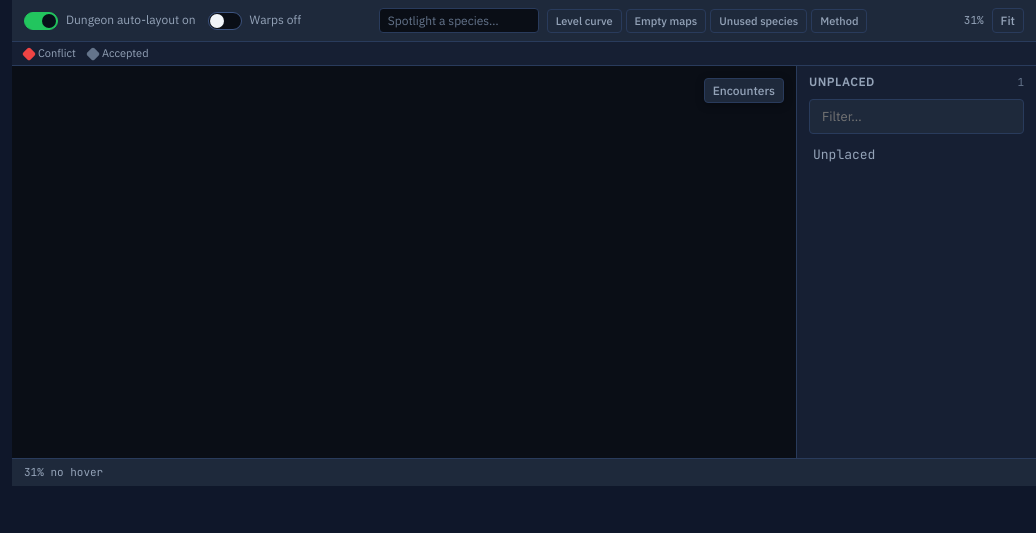
it: dungeon failure uses the per-map error policy and reloads
Click the switch named "Dungeon auto-layout". click: (41, 20)
box: [24,12,58,30]
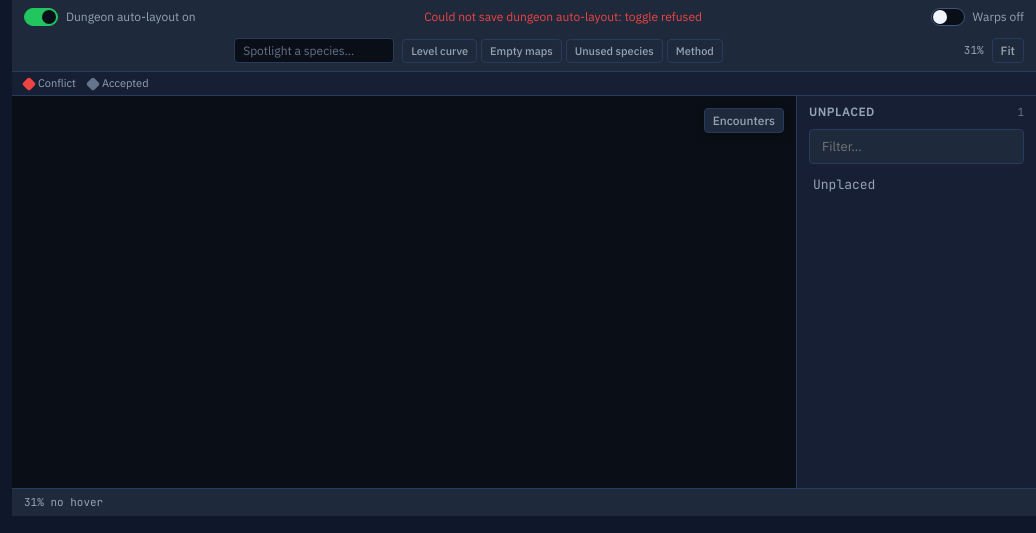
Result: the text "Could not save dungeon auto-layout: toggle refused" is shown at [424,9,702,24]
